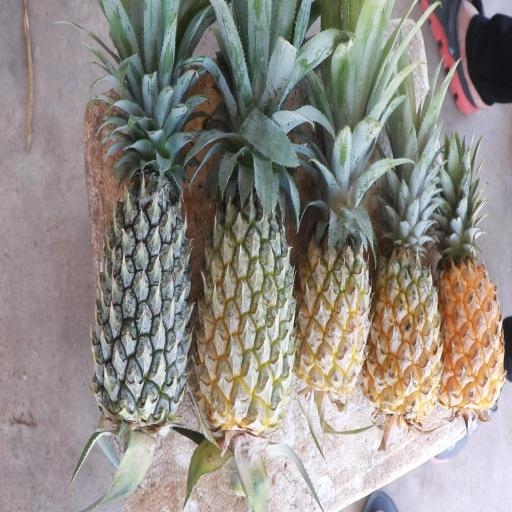------------------------------: (200, 132, 298, 420)
Pineapple - v8 v1: (298, 180, 370, 390), (370, 201, 439, 408), (434, 221, 502, 413)
